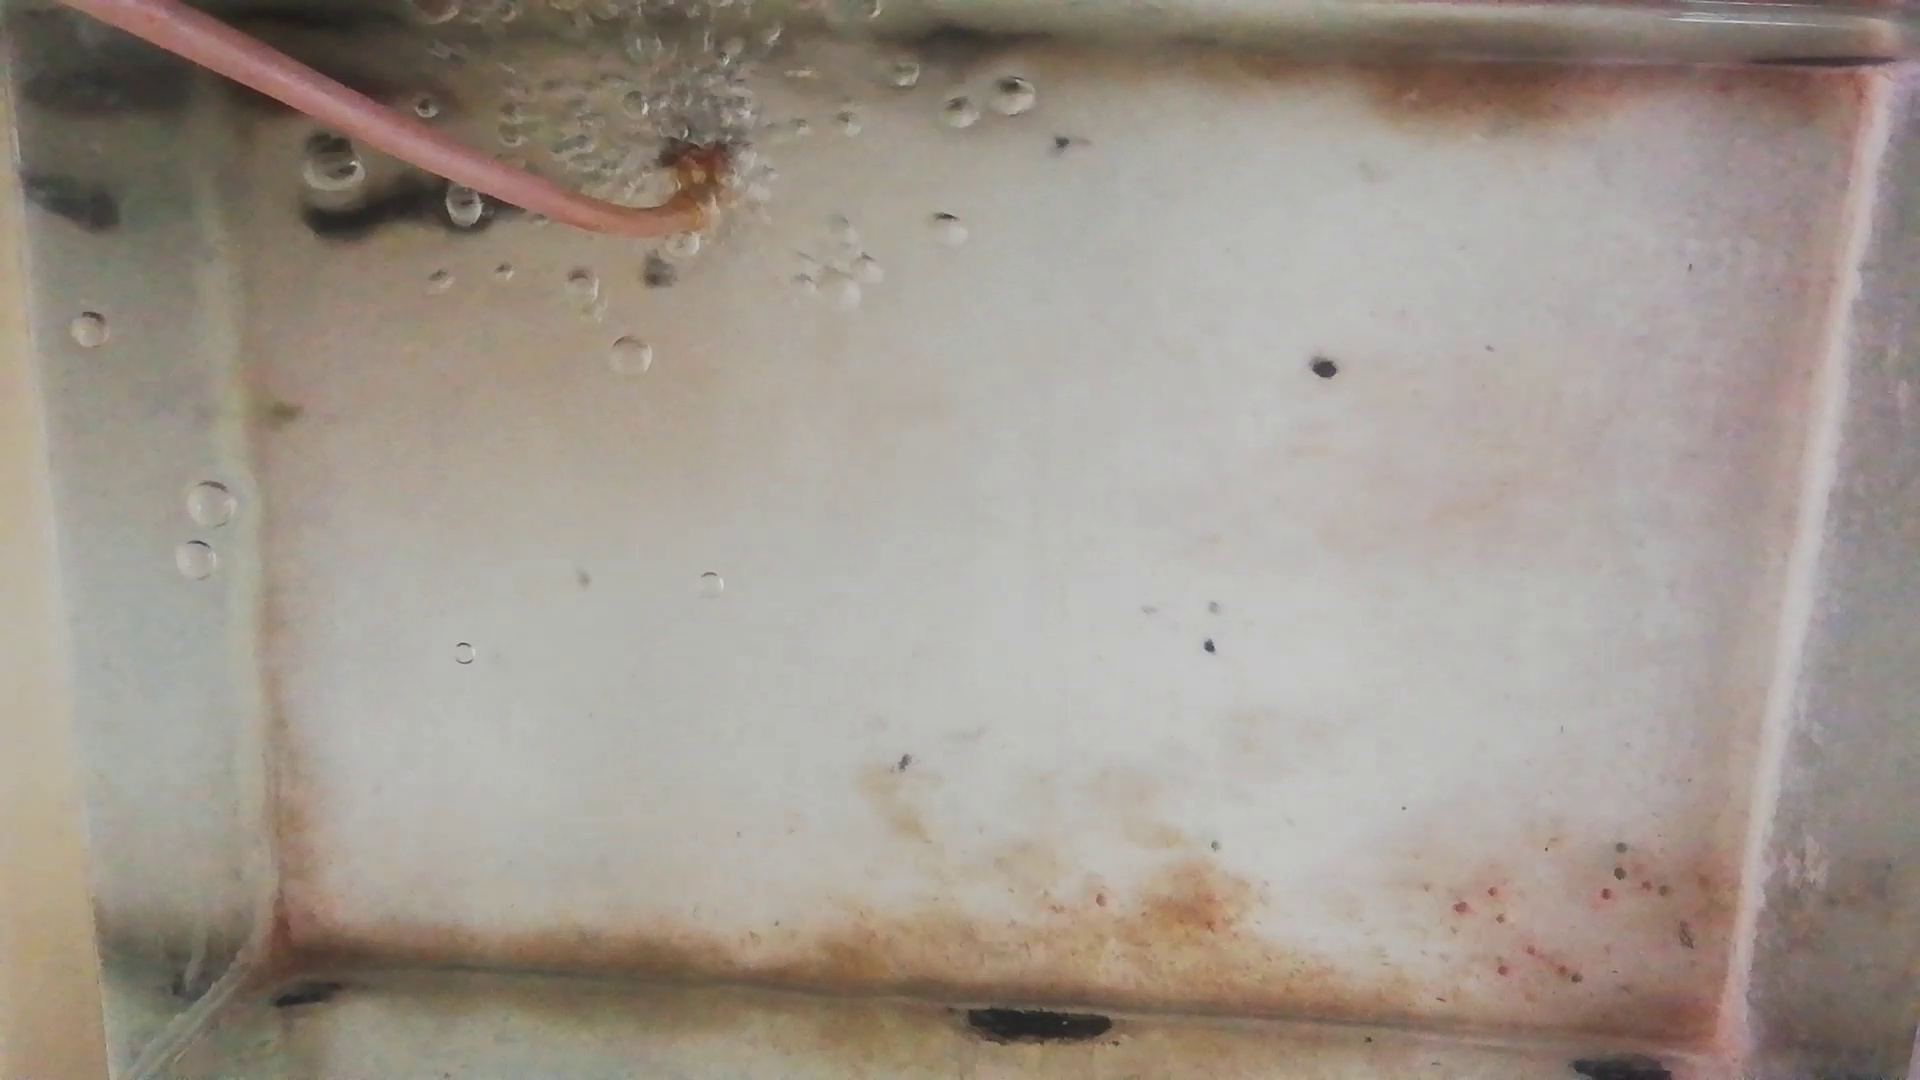fish: (297, 173, 520, 240), (237, 63, 430, 115)
